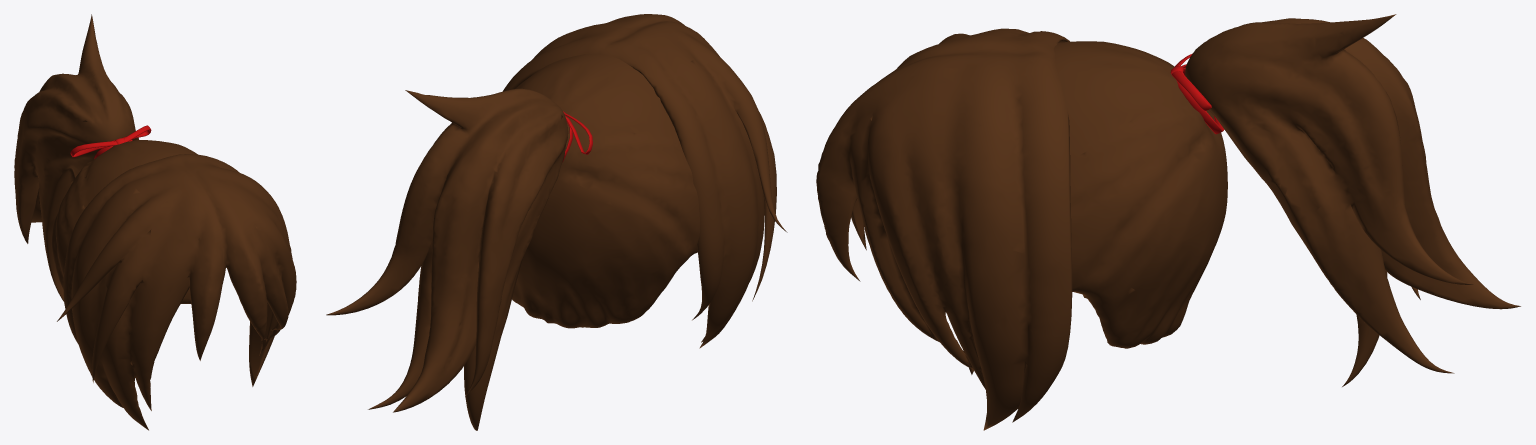
File: mh_culturalibre_hair_13.glb
The picture shows the model from 3 angles, left to right: view 1: azimuth 30°, elevation 25°; view 2: azimuth 150°, elevation 25°; view 3: azimuth 270°, elevation 25°; orthographic projection. The views are drawn at different scales.
Parts seen in each view (by area): view 1: mh_culturalibre_hair_13; view 2: mh_culturalibre_hair_13; view 3: mh_culturalibre_hair_13.
Part boxes in pixels (x1,y1,x2,y2): mh_culturalibre_hair_13: [14, 14, 296, 430]; mh_culturalibre_hair_13: [326, 14, 787, 430]; mh_culturalibre_hair_13: [816, 14, 1520, 430].
Size of the model in its own units: 0.2388 by 0.2909 by 0.4386.
1 material, 1 textured.
